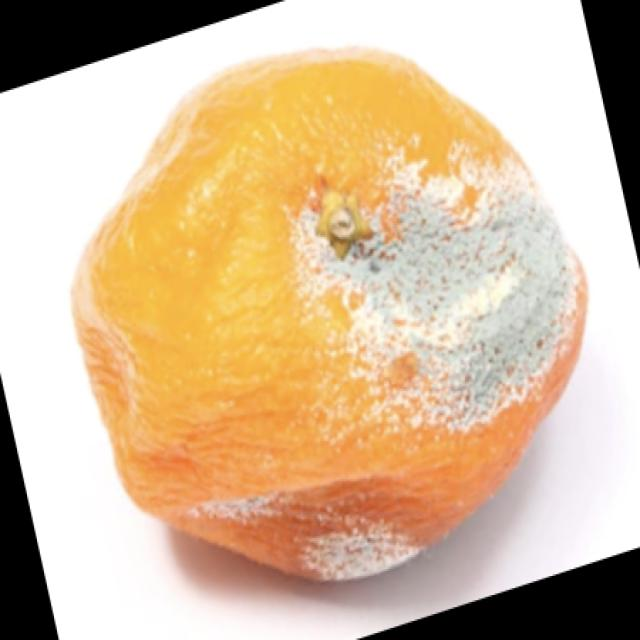sangat_busuk: (60, 39, 601, 585)
